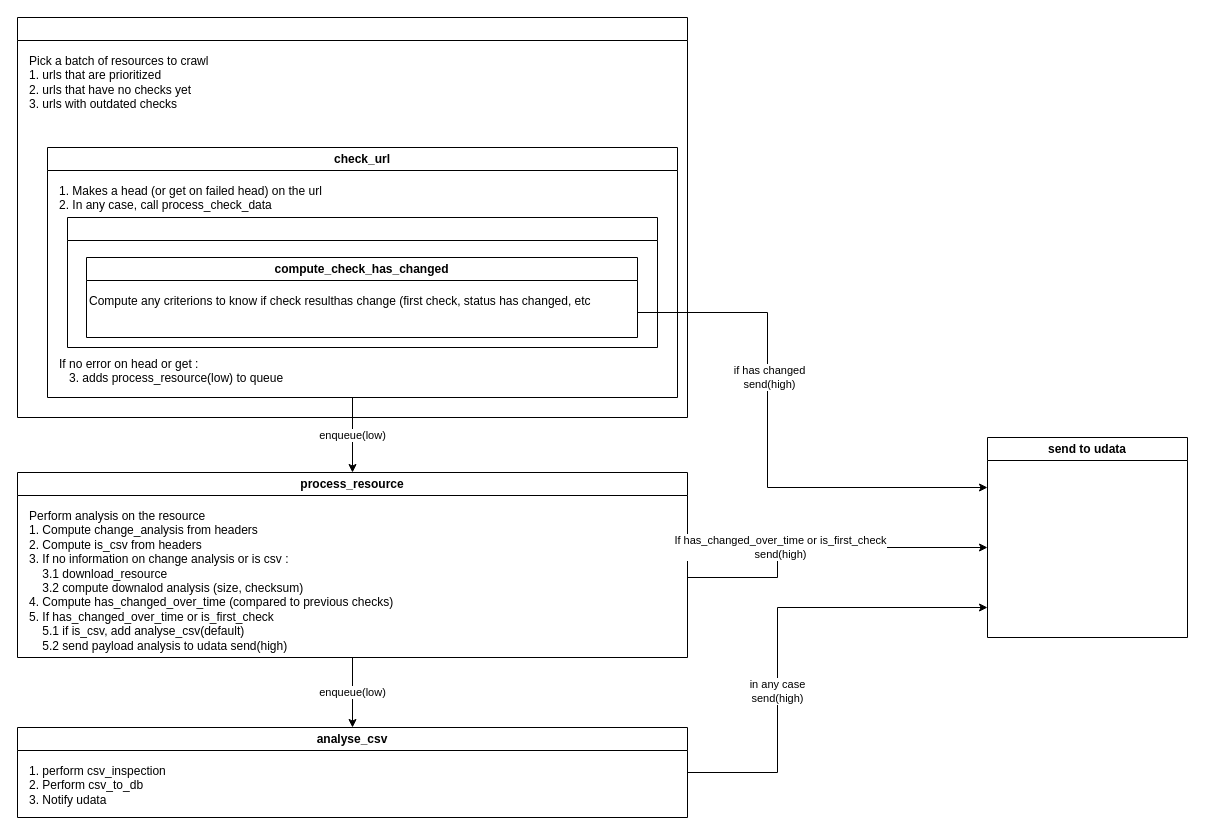
Image size: 1205x835. Some labels were removed from this diagram. Each missing label, with the box of its shape:
crawl_batch: (16, 16, 688, 418)
process_check_data: (66, 216, 658, 348)
